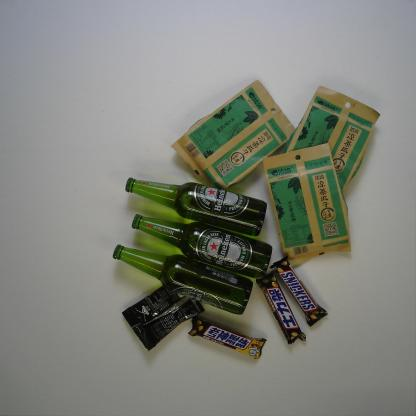Alcohol: (112, 244, 254, 316), (131, 213, 273, 281), (124, 176, 268, 237)
Chocolate: (269, 254, 328, 327), (255, 269, 308, 345), (186, 315, 268, 359)
Dried Food: (169, 77, 297, 190), (263, 141, 352, 269), (280, 84, 382, 194)
Instant Drink: (121, 284, 205, 353)
